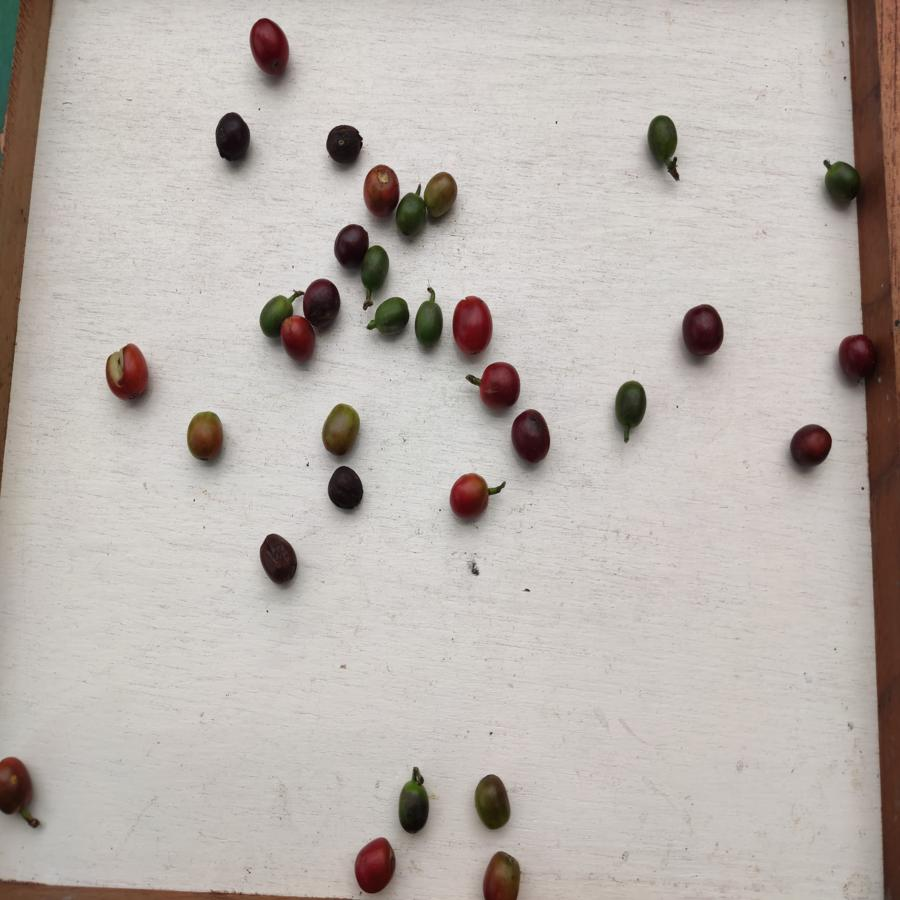Inmaduro: (643, 113, 680, 167), (414, 297, 449, 352), (395, 779, 429, 835), (615, 380, 651, 431), (821, 162, 860, 205), (394, 190, 424, 241), (359, 245, 392, 289), (375, 294, 410, 335), (257, 292, 287, 338)
Maduro: (246, 15, 296, 76), (448, 294, 494, 355), (106, 341, 150, 399), (356, 835, 399, 894), (481, 358, 524, 412), (447, 472, 488, 520), (281, 316, 315, 363)
Pinton: (473, 773, 517, 831), (319, 402, 363, 453), (480, 850, 524, 900), (184, 410, 225, 462), (1, 756, 33, 819), (365, 163, 398, 215), (423, 173, 460, 218)
Sobremaduro: (512, 405, 552, 465), (683, 303, 726, 356), (259, 532, 301, 585), (789, 423, 835, 468), (326, 465, 368, 514), (839, 333, 879, 383), (214, 110, 252, 162), (301, 280, 342, 327), (323, 123, 365, 163), (335, 221, 362, 265)
